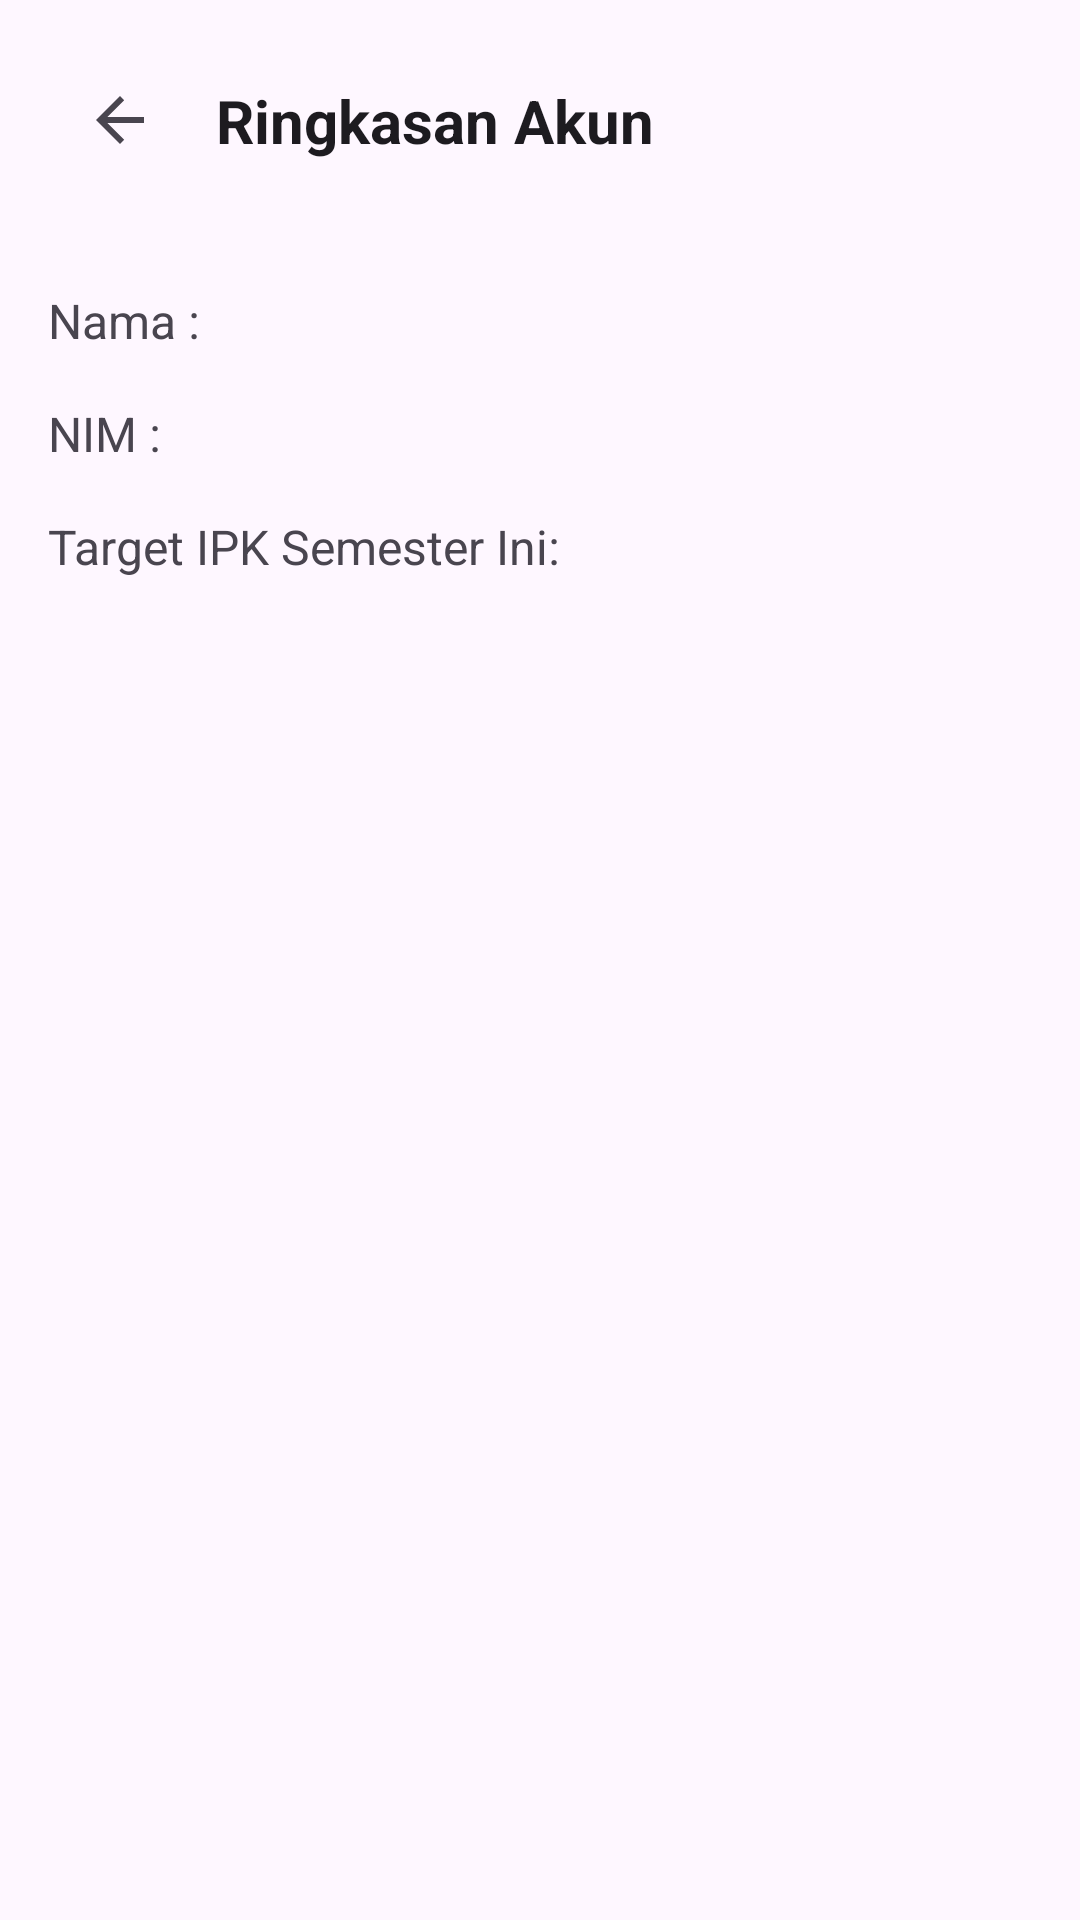

Icon click points for this 1080px x 1920px phone screenshot, format [x,y]:
KEMBALI: [120,120]
